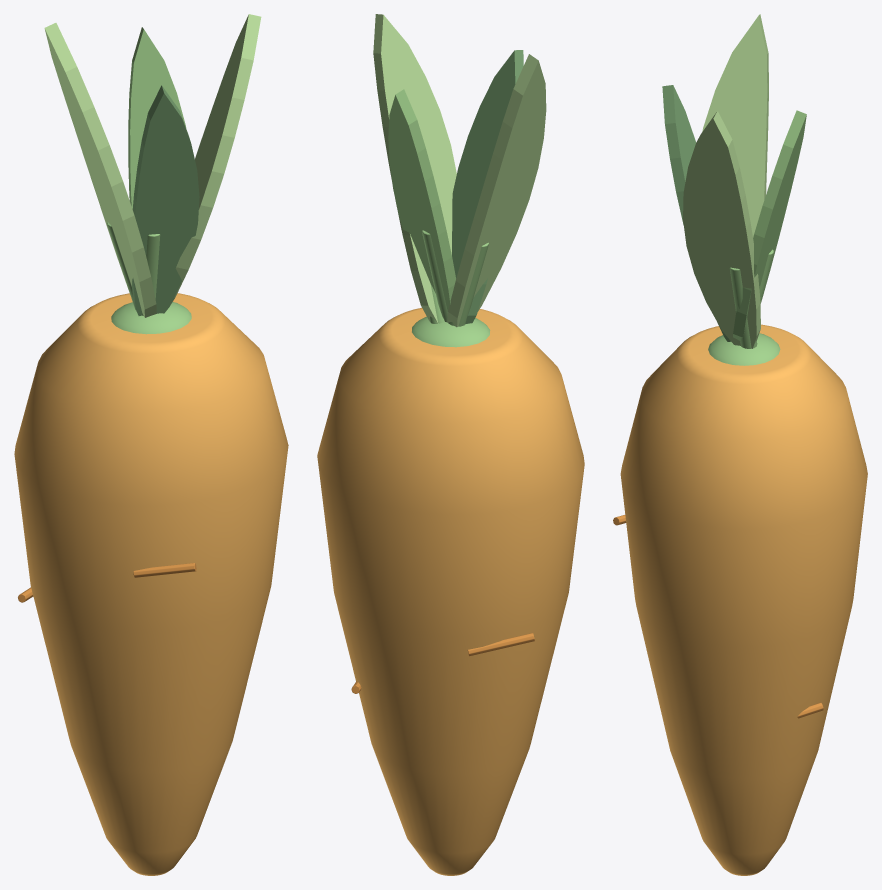
The model's file is WF_Quaternius_Carrot_RoundPass01.fbx.
The picture shows the model from 3 angles, left to right: view 1: azimuth 30°, elevation 25°; view 2: azimuth 150°, elevation 25°; view 3: azimuth 270°, elevation 25°; orthographic projection. The views are drawn at different scales.
Parts seen in each view (by area): view 1: WF_RoundPass01_Carrot_Body, WF_RoundPass01_Carrot_Leaf_2, WF_RoundPass01_Carrot_Leaf_0, WF_RoundPass01_Carrot_Leaf_1, WF_RoundPass01_Carrot_Leaf_3, WF_RoundPass01_Carrot_Crown, WF_RoundPass01_Carrot_LeafStem_2, Carrot_soft_growth_mark_2; view 2: WF_RoundPass01_Carrot_Body, WF_RoundPass01_Carrot_Leaf_0, WF_RoundPass01_Carrot_Leaf_1, WF_RoundPass01_Carrot_Leaf_3, WF_RoundPass01_Carrot_Leaf_2, WF_RoundPass01_Carrot_Crown, WF_RoundPass01_Carrot_LeafStem_3, WF_RoundPass01_Carrot_LeafStem_0, Carrot_soft_growth_mark_1; view 3: WF_RoundPass01_Carrot_Body, WF_RoundPass01_Carrot_Leaf_1, WF_RoundPass01_Carrot_Leaf_0, WF_RoundPass01_Carrot_Leaf_3, WF_RoundPass01_Carrot_Leaf_2, WF_RoundPass01_Carrot_Crown, WF_RoundPass01_Carrot_LeafStem_1.
Boxes of the visible parts, x1,y1,x2,y2 form: WF_RoundPass01_Carrot_Body: (14, 293, 288, 875); WF_RoundPass01_Carrot_Leaf_2: (132, 85, 199, 315); WF_RoundPass01_Carrot_Leaf_0: (44, 23, 156, 317); WF_RoundPass01_Carrot_Leaf_1: (171, 14, 261, 303); WF_RoundPass01_Carrot_Leaf_3: (128, 27, 186, 208); WF_RoundPass01_Carrot_Crown: (111, 302, 191, 334); WF_RoundPass01_Carrot_LeafStem_2: (142, 234, 160, 315); Carrot_soft_growth_mark_2: (133, 563, 196, 577); WF_RoundPass01_Carrot_Body: (317, 307, 584, 875); WF_RoundPass01_Carrot_Leaf_0: (447, 54, 546, 327); WF_RoundPass01_Carrot_Leaf_1: (373, 14, 456, 323); WF_RoundPass01_Carrot_Leaf_3: (388, 89, 455, 311); WF_RoundPass01_Carrot_Leaf_2: (452, 50, 523, 324); WF_RoundPass01_Carrot_Crown: (412, 316, 490, 347); WF_RoundPass01_Carrot_LeafStem_3: (422, 230, 447, 322); WF_RoundPass01_Carrot_LeafStem_0: (448, 242, 488, 326); Carrot_soft_growth_mark_1: (467, 633, 534, 656); WF_RoundPass01_Carrot_Body: (620, 324, 867, 875); WF_RoundPass01_Carrot_Leaf_1: (683, 111, 760, 348); WF_RoundPass01_Carrot_Leaf_0: (702, 14, 768, 237); WF_RoundPass01_Carrot_Leaf_3: (733, 110, 806, 340); WF_RoundPass01_Carrot_Leaf_2: (662, 85, 730, 341); WF_RoundPass01_Carrot_Crown: (708, 333, 780, 365); WF_RoundPass01_Carrot_LeafStem_1: (729, 267, 757, 348).
Bounding box in the file's own units: 42 × 40.8 × 144.
